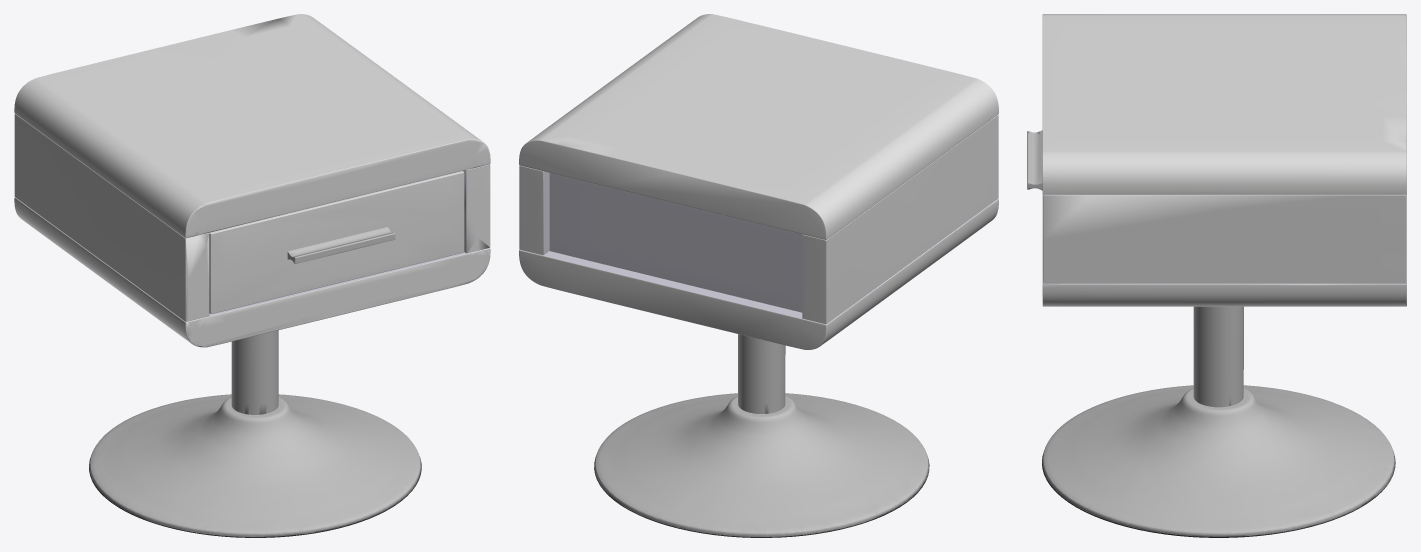
Rendered from B07QS8TBXT.glb.
3 renders of one model, left to right at view 1: azimuth 30°, elevation 25°; view 2: azimuth 150°, elevation 25°; view 3: azimuth 270°, elevation 25°, orthographic. The views are drawn at different scales.
Parts seen in each view (by area): view 1: RootNode; view 2: RootNode; view 3: RootNode.
Part boxes in pixels (x1,y1,x2,y2): RootNode: (14,14,490,537); RootNode: (519,14,998,537); RootNode: (1027,14,1406,537).
Bounding box in the file's own units: 0.3988 × 0.4467 × 0.4041.
1 material, 1 textured.
